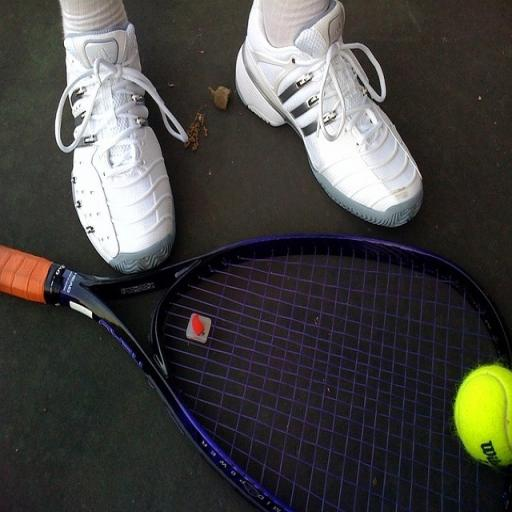shoe: (236, 0, 423, 227), (55, 24, 187, 273)
